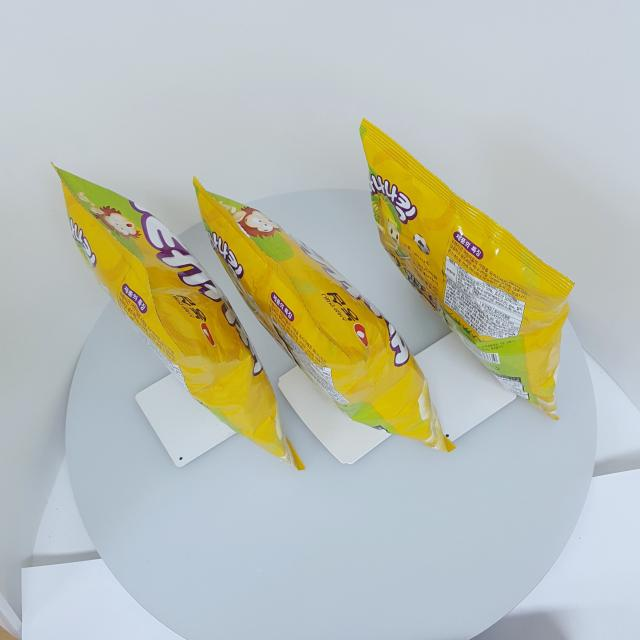-75G: (51, 162, 307, 472), (193, 177, 457, 453), (360, 118, 576, 421)
